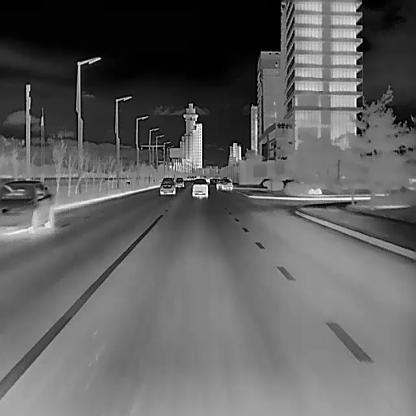car: (0, 177, 53, 236), (191, 178, 208, 197), (158, 176, 175, 194), (215, 177, 233, 189), (173, 177, 183, 186)
